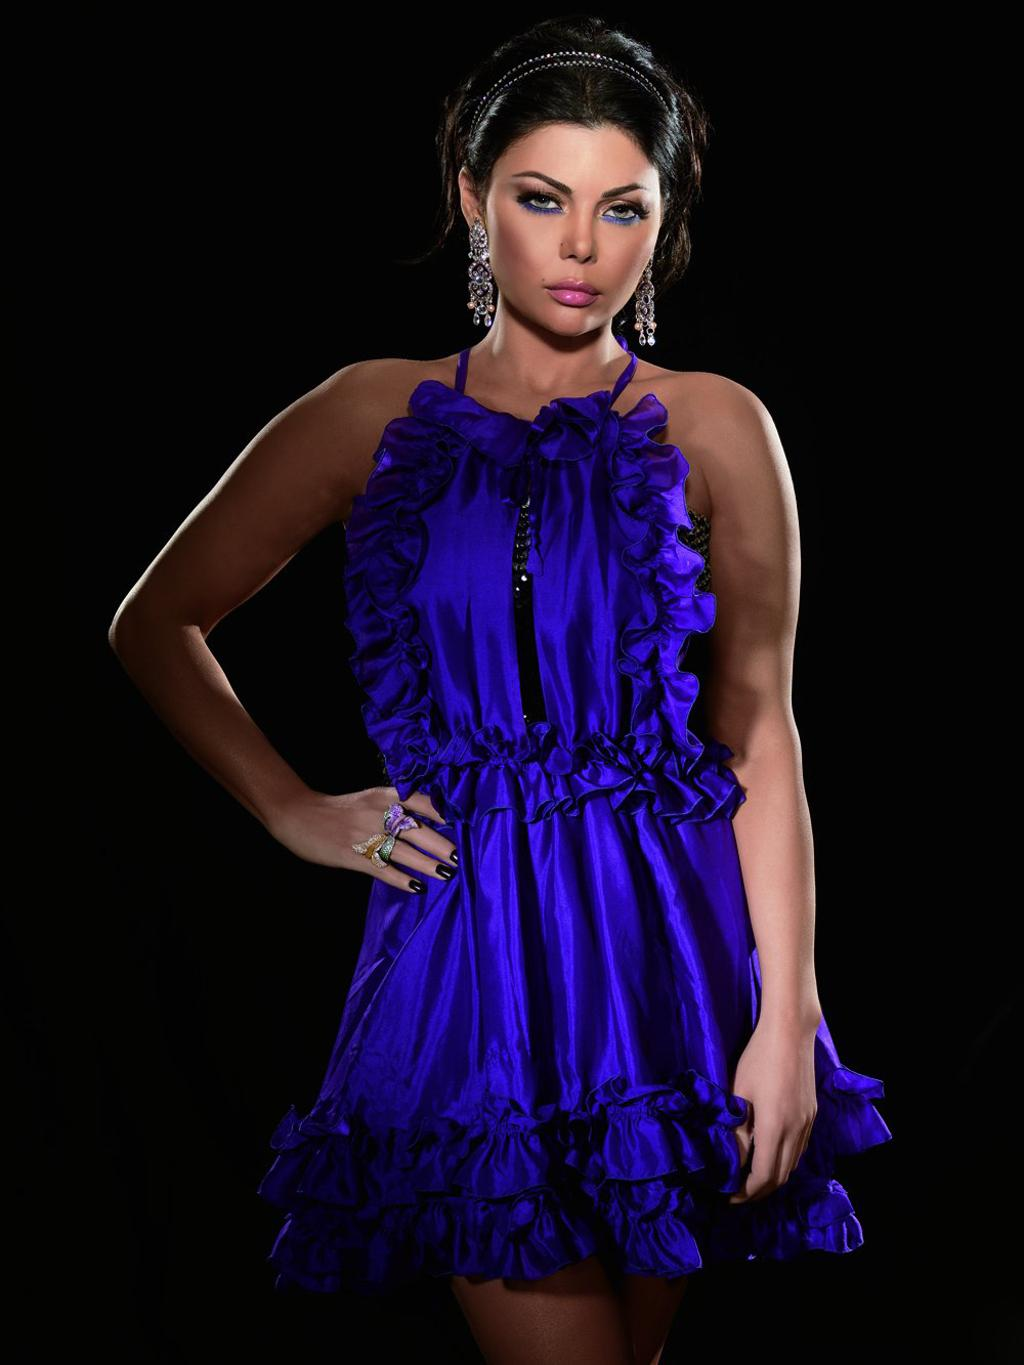face: (491, 115, 662, 334)
